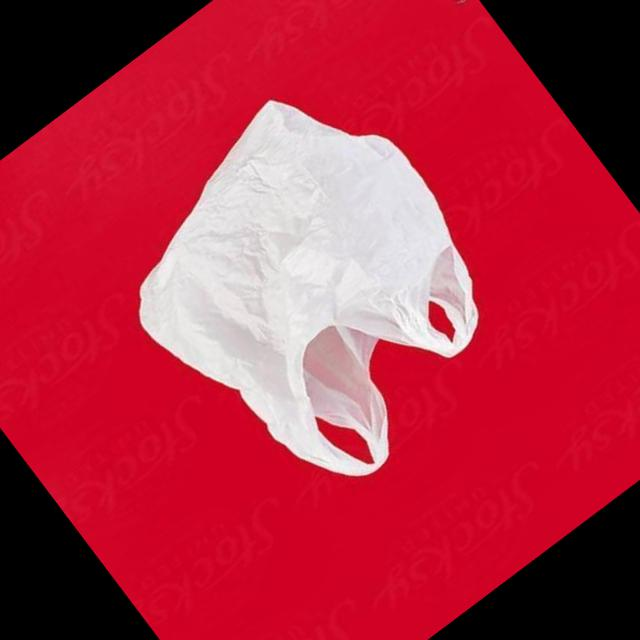KantongPlastik: (78, 52, 551, 534)
